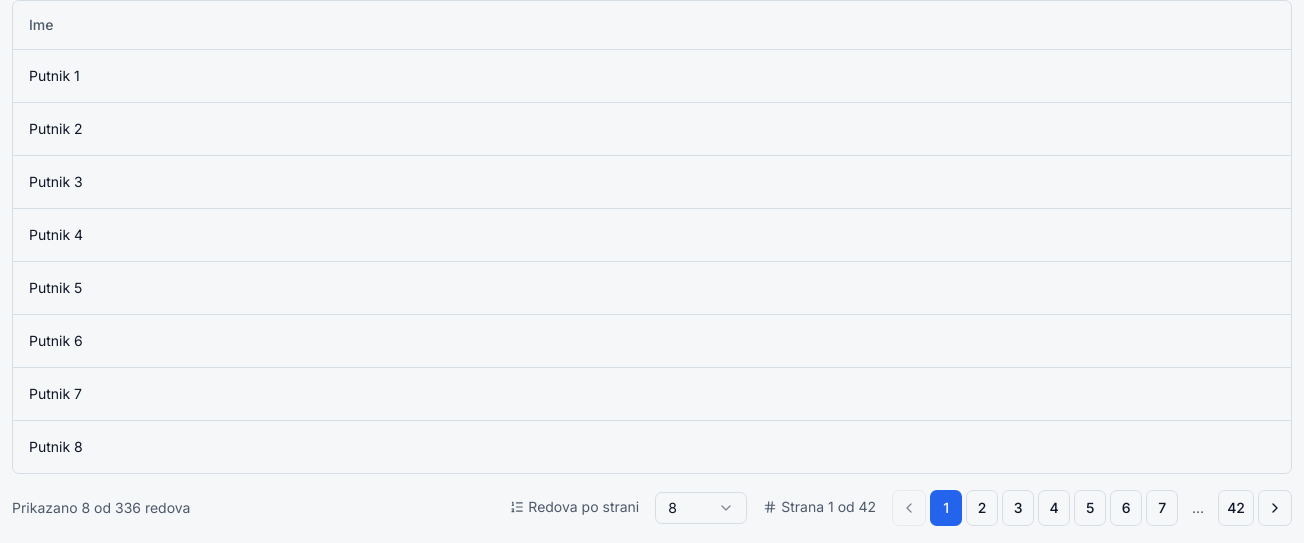
Test: data table pagination › marks next unavailable on the last page
Click the button named "Idi na stranu 42".
click(1236, 508)  # box [1218,490,1254,526]
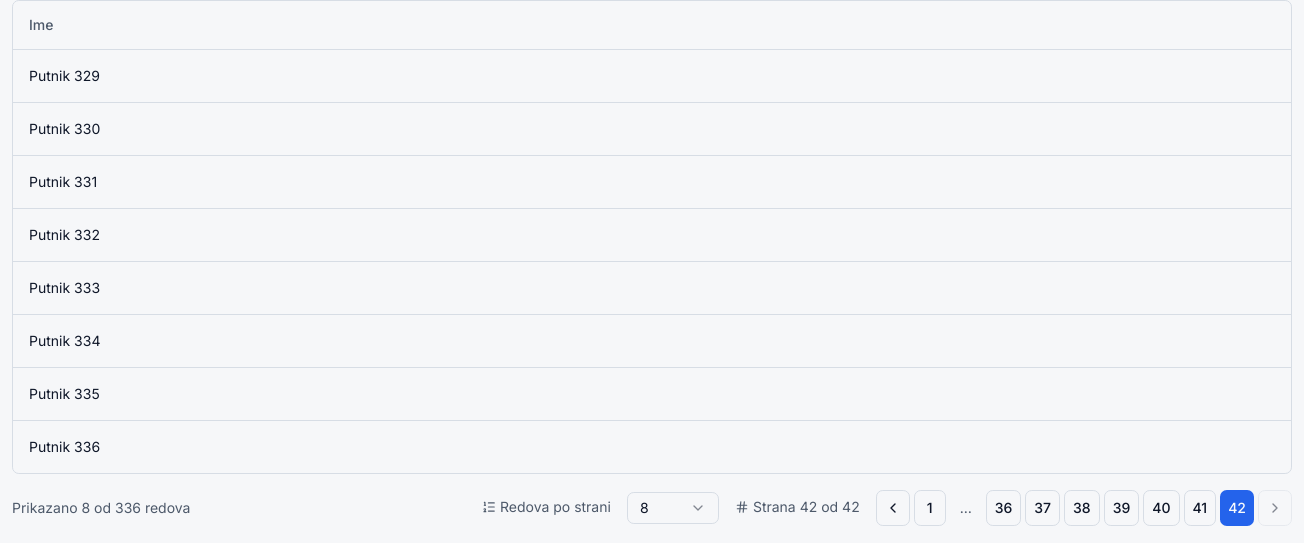
Result: the text "Putnik 336" is shown at [13,420,1291,472]
